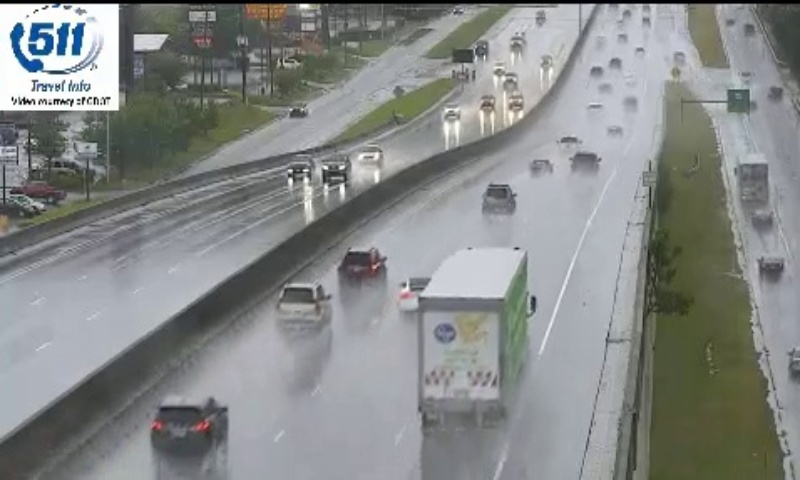car: (152, 396, 229, 453), (274, 283, 329, 327), (338, 249, 386, 287), (398, 280, 431, 310), (482, 184, 515, 213), (569, 152, 600, 177)
small-truck: (418, 245, 528, 422)
